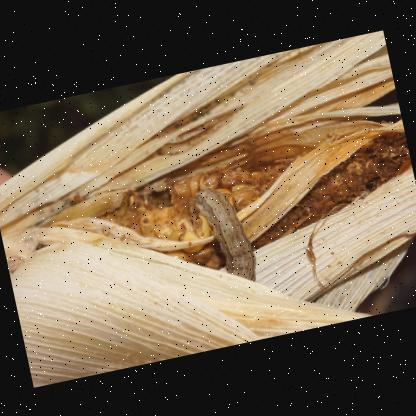Fall Armyworm Larvae: (188, 177, 262, 293)
